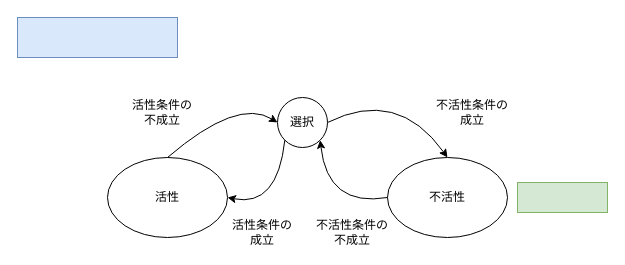
The diagram is 625 pixels wide and 265 high, and some of its shapes have lost their labels. Each missing label, with the centre of its shape:
つながり ～生命と生命１～: the point at 97,37
休眠、冬眠: the point at 562,197
